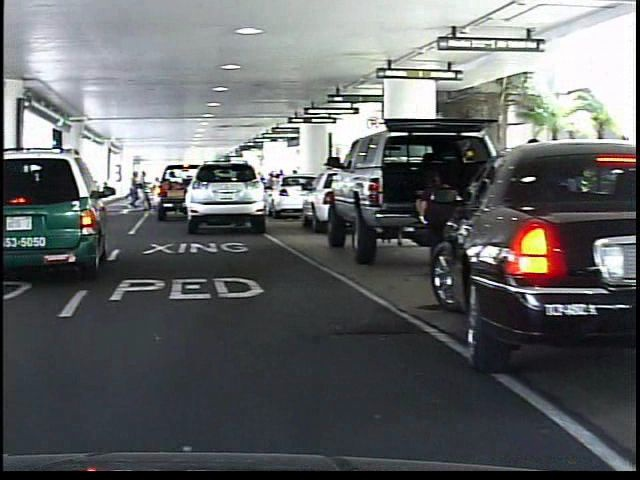person: (410, 158, 463, 271)
